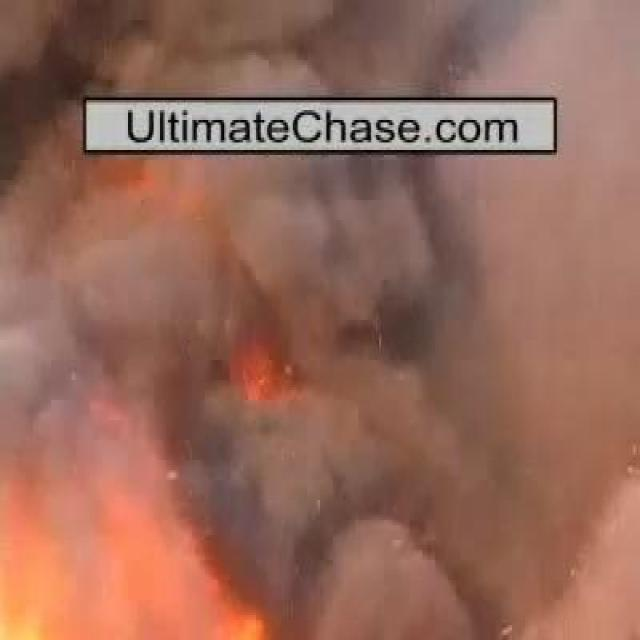Smoke: (21, 164, 576, 591)
